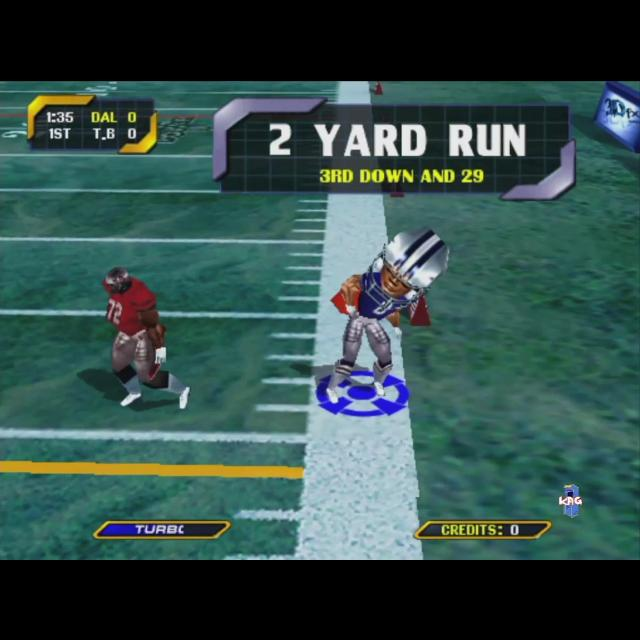player: (326, 227, 449, 403), (102, 266, 190, 409)
